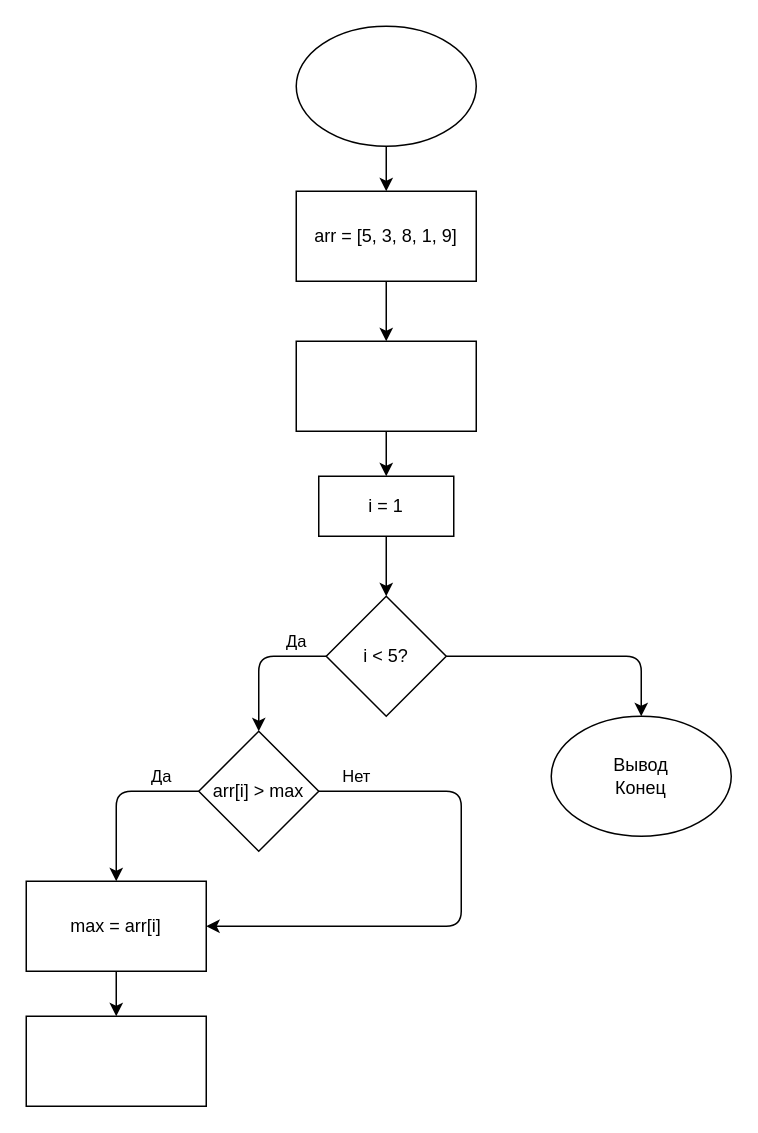
Image size: 758x1133. Some labels were removed from this diagram. Here are the shapes that lost their labels. From the top down, the centre of each, then its label:
pixel 385 85: Начало
pixel 385 385: max = arr[0]
pixel 115 1060: i = i + 1
